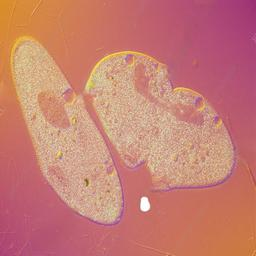Paramecium: (84, 51, 238, 192), (12, 38, 126, 225)
